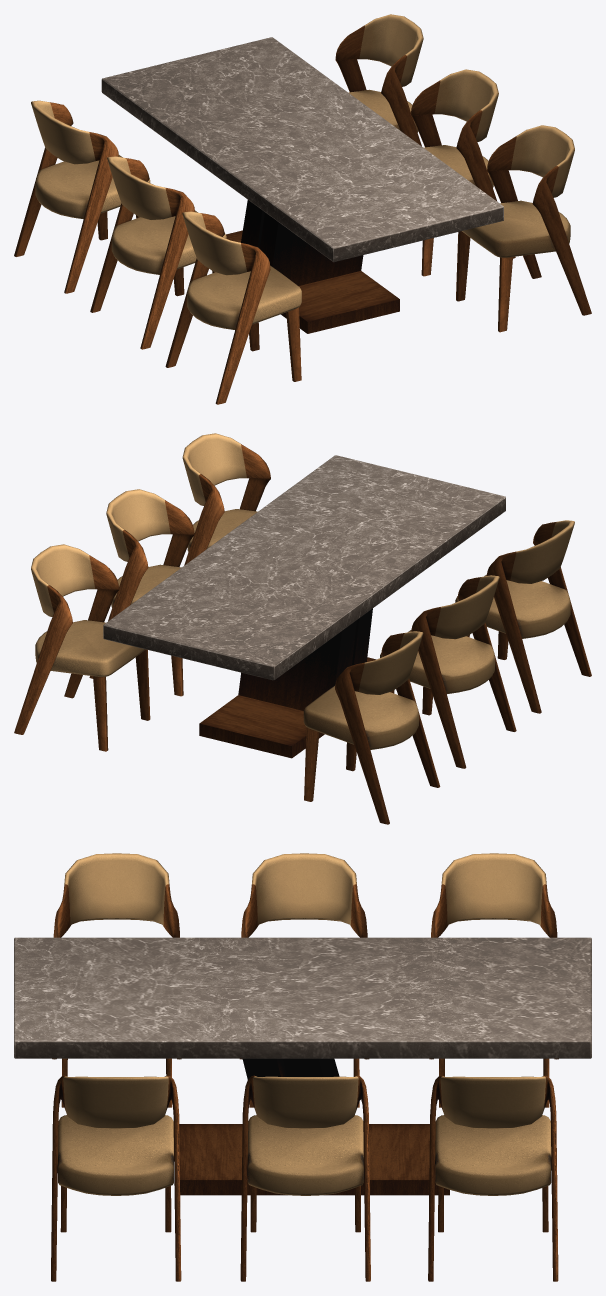
Rendered from Six_Seater_Dining_Table_04.fbx.
The picture shows the model from 3 angles, top to bottom: view 1: azimuth 30°, elevation 25°; view 2: azimuth 150°, elevation 25°; view 3: azimuth 270°, elevation 25°; orthographic projection. The views are drawn at different scales.
Parts seen in each view (by area): view 1: Dinning_Table_05; view 2: Dinning_Table_05; view 3: Dinning_Table_05.
Boxes of the visible parts, box(x1,y1,x2,y2) form: Dinning_Table_05: box(14, 14, 591, 404); Dinning_Table_05: box(14, 433, 591, 824); Dinning_Table_05: box(14, 853, 591, 1281).
Bounding box in the file's own units: 219 × 90.61 × 235.
Materials: 1 (1 with a texture image).
